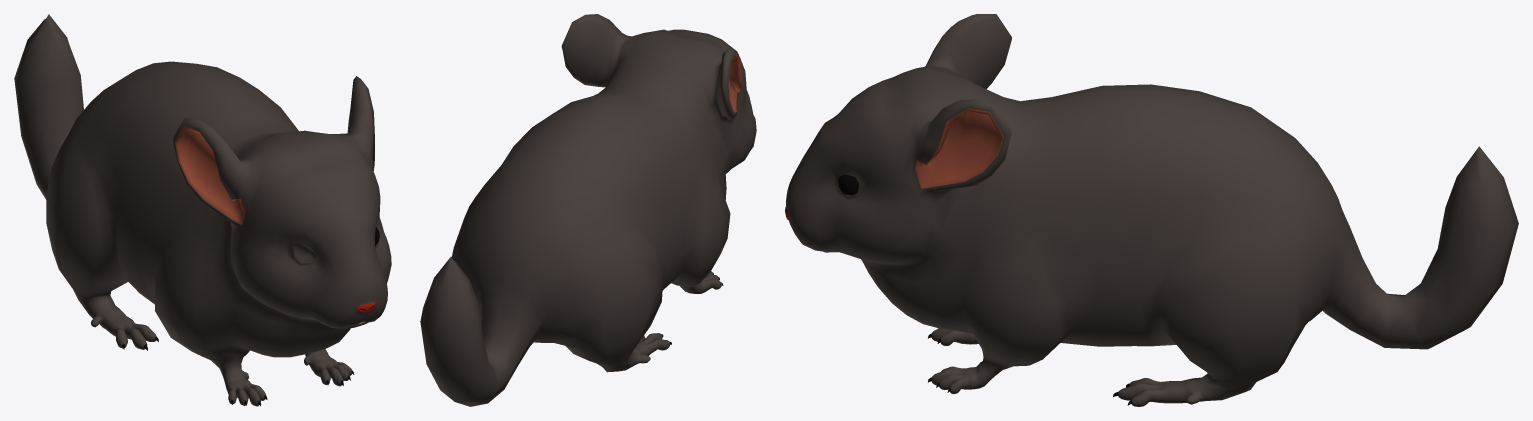
Rendered from chinchilla.obj.
The picture shows the model from 3 angles, left to right: view 1: azimuth 30°, elevation 25°; view 2: azimuth 150°, elevation 25°; view 3: azimuth 270°, elevation 25°; orthographic projection. The views are drawn at different scales.
Visible parts, largest first — view 1: chinchilla; view 2: chinchilla; view 3: chinchilla.
Part boxes in pixels (left/top/right/bottom): chinchilla: left=14, top=14, right=391, bottom=406; chinchilla: left=420, top=14, right=756, bottom=406; chinchilla: left=785, top=14, right=1518, bottom=406.
Bounding box in the file's own units: 0.1207 × 0.1526 × 0.33.
